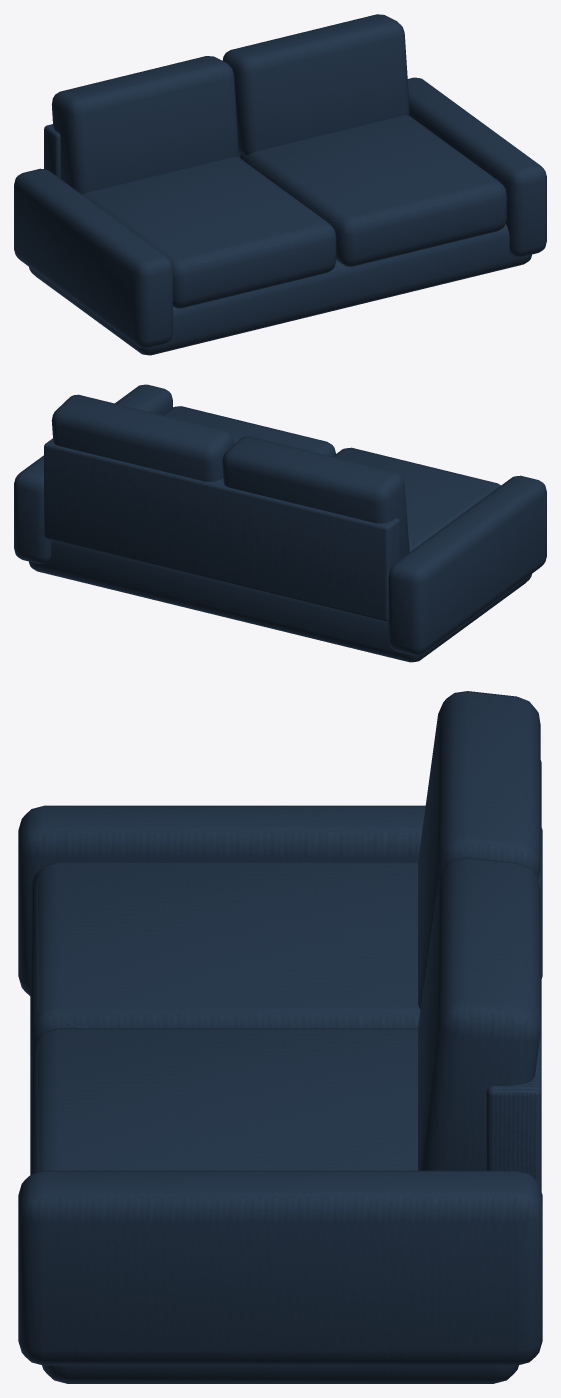
File: boneless-loveseat.glb
The picture shows the model from 3 angles, top to bottom: view 1: azimuth 30°, elevation 25°; view 2: azimuth 150°, elevation 25°; view 3: azimuth 270°, elevation 25°; orthographic projection. The views are drawn at different scales.
Visible parts, largest first — view 1: catalog_surface_UVMap, catalog_surface_RealismUV; view 2: catalog_surface_UVMap; view 3: catalog_surface_UVMap, catalog_surface_RealismUV.
Boxes of the visible parts, box(x1,y1,x2,y2) form: catalog_surface_UVMap: box(14, 14, 546, 355); catalog_surface_RealismUV: box(79, 34, 497, 265); catalog_surface_UVMap: box(14, 384, 546, 662); catalog_surface_UVMap: box(18, 691, 542, 1383); catalog_surface_RealismUV: box(36, 855, 441, 1172).
Bounding box in the file's own units: 1.9 × 0.78 × 1.05.
Materials: 2 (1 with a texture image).
